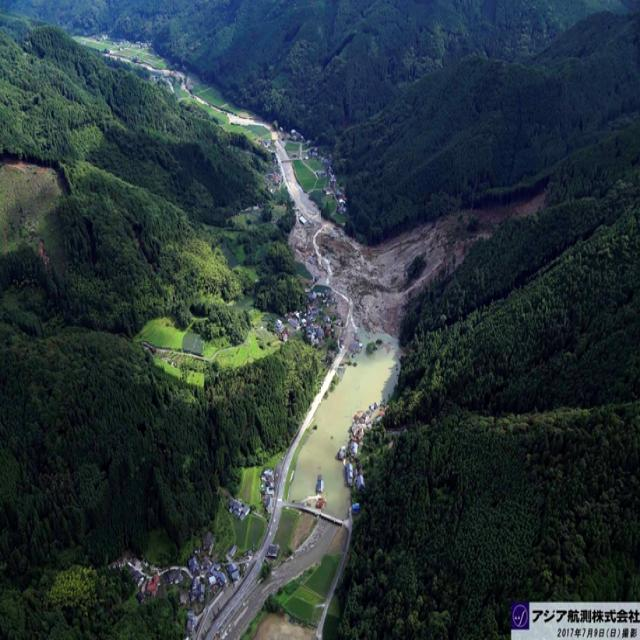Debris-flow: (290, 193, 545, 335), (0, 161, 62, 262)
